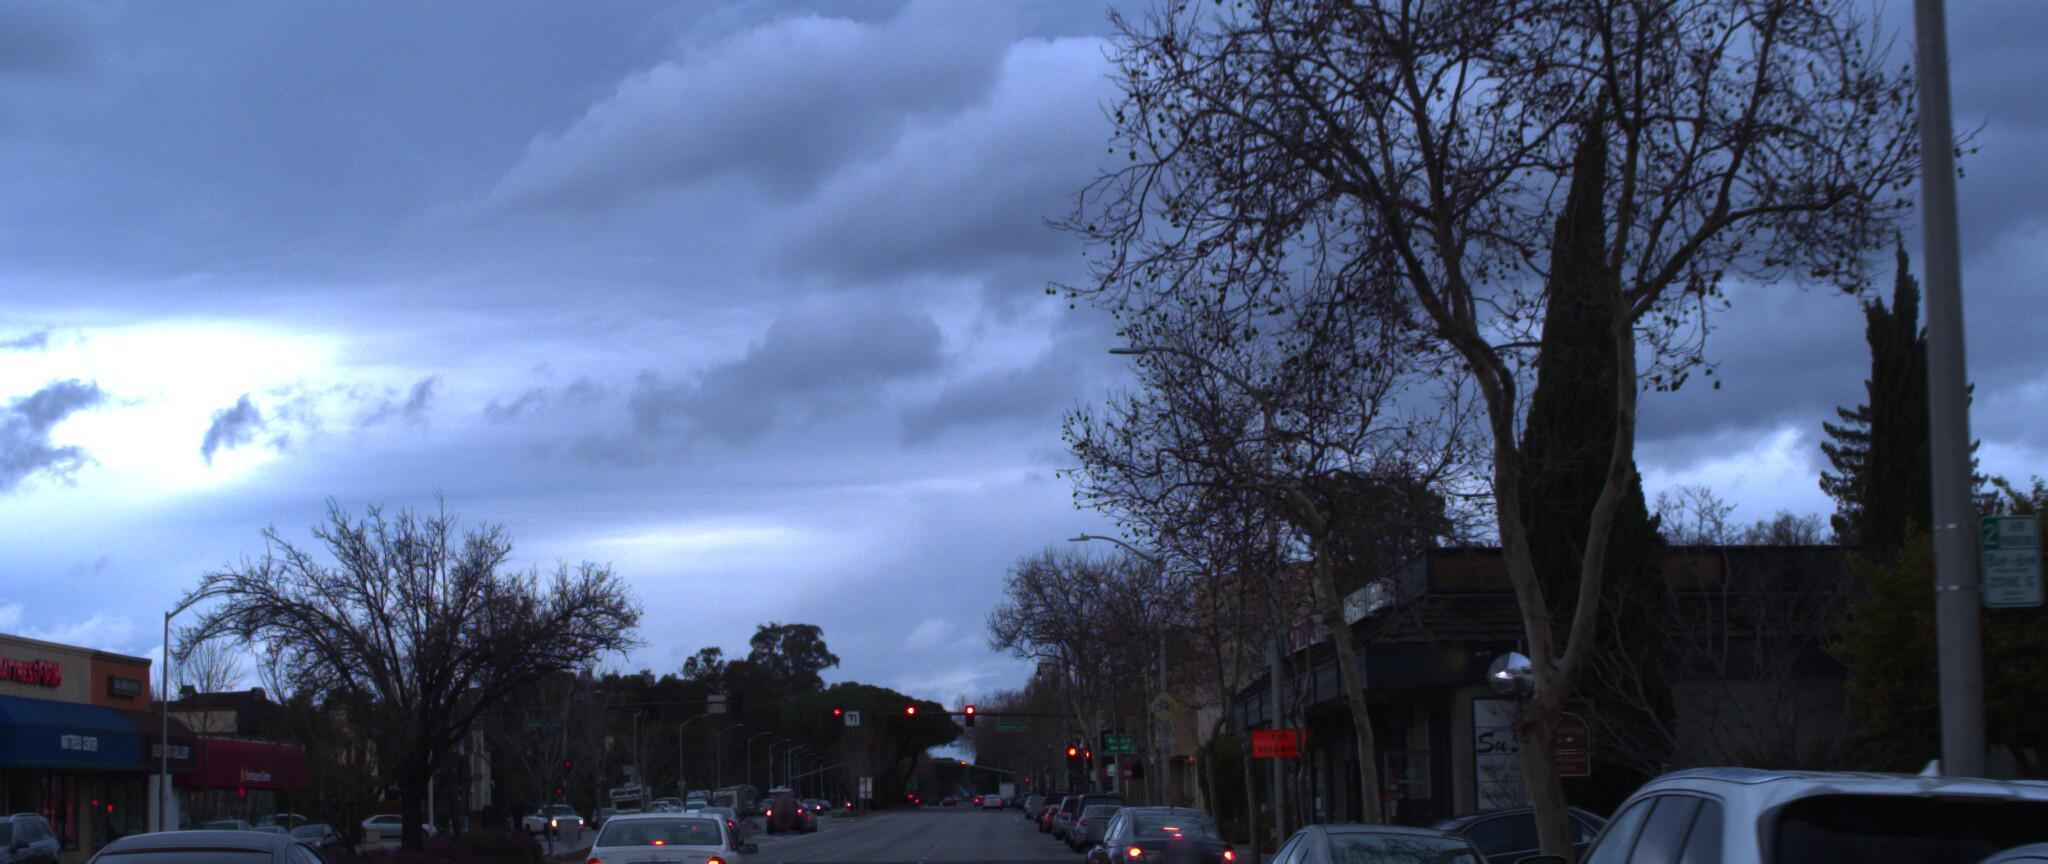car: (1435, 730, 2048, 864), (1185, 794, 1633, 864), (0, 797, 404, 864), (1664, 809, 2048, 864), (551, 780, 768, 864), (1212, 812, 1552, 864), (1075, 792, 1233, 864), (0, 799, 72, 864)
